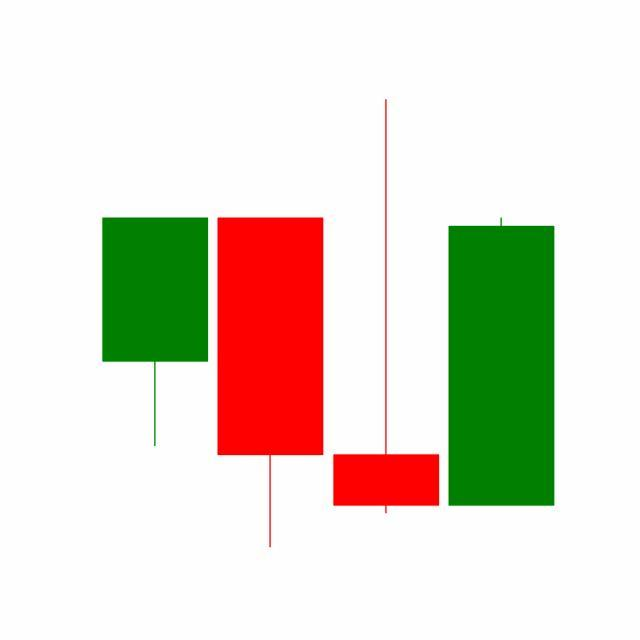Marubozu: (444, 215, 560, 509)
